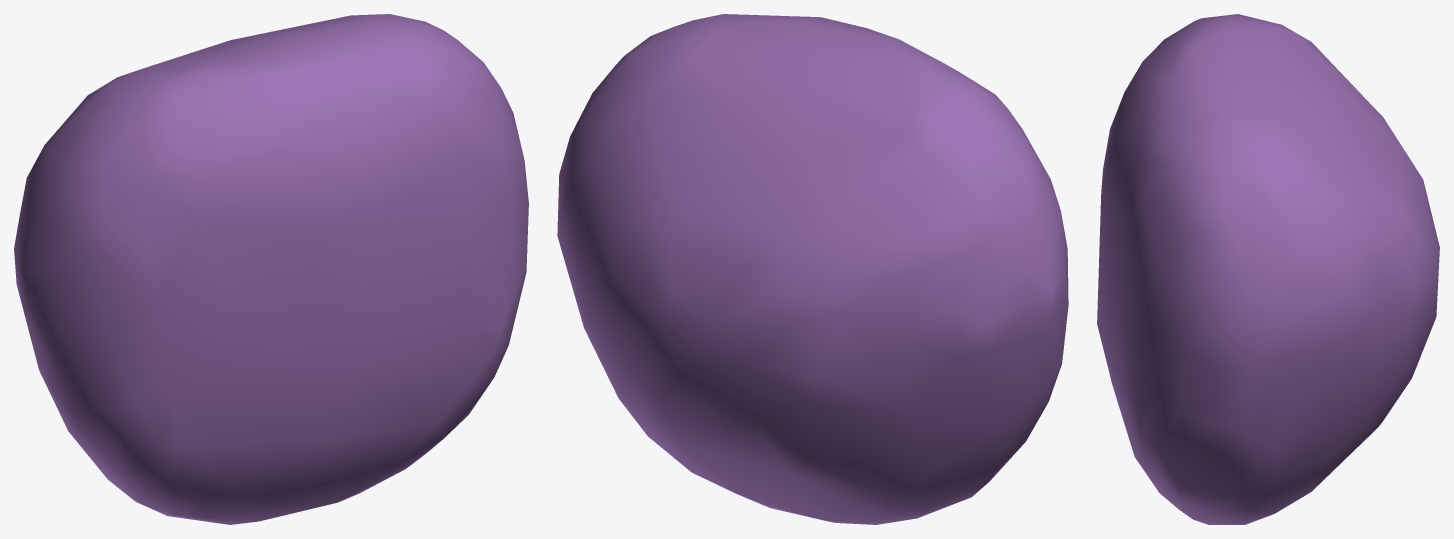
3 renders of one model, left to right at view 1: azimuth 30°, elevation 25°; view 2: azimuth 150°, elevation 25°; view 3: azimuth 270°, elevation 25°, orthographic. The views are drawn at different scales.
Visible parts, largest first — view 1: 前列腺; view 2: 前列腺; view 3: 前列腺.
Boxes of the visible parts, <box> form: 前列腺: <box>14,14,528,524</box>; 前列腺: <box>557,14,1068,524</box>; 前列腺: <box>1097,14,1439,524</box>.
Bounding box in the file's own units: 0.0526 × 0.0483 × 0.0345.
